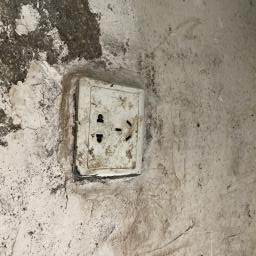outlet: (68, 66, 153, 192)
